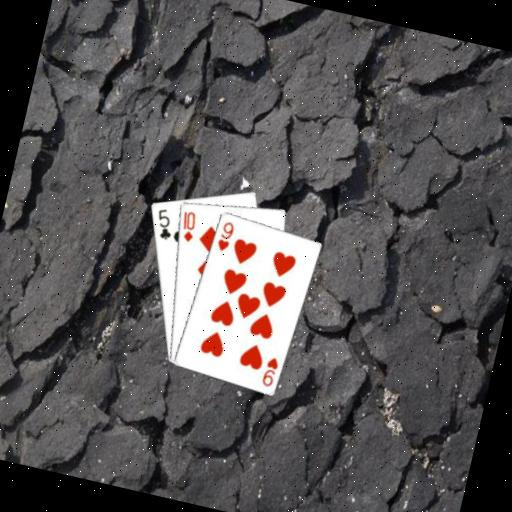10D: (174, 206, 200, 244)
5C: (149, 204, 178, 242)
9H: (213, 217, 237, 255), (258, 353, 282, 389)
